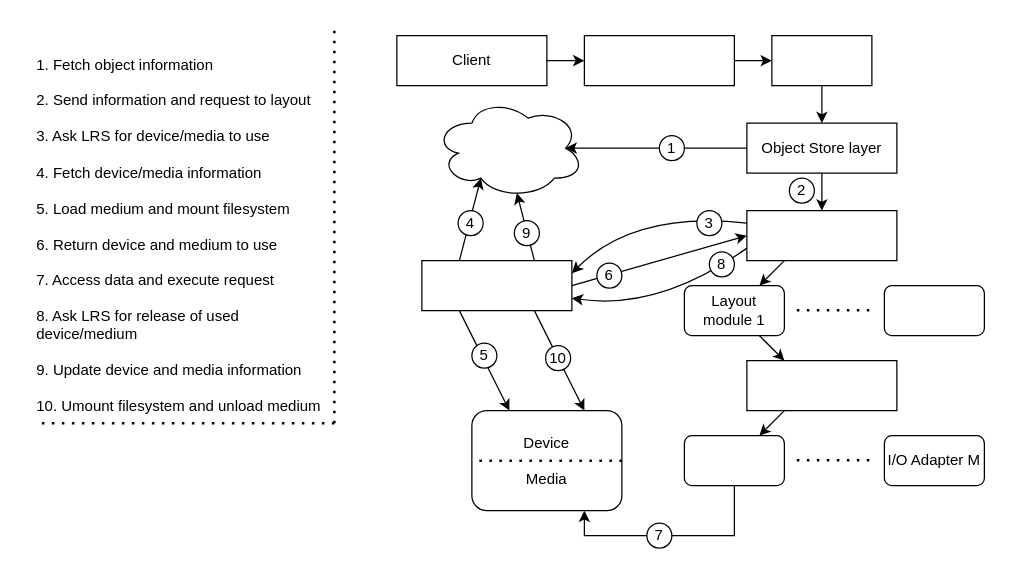
The diagram is 1018 pixels wide and 581 high, and some of its shapes have lost their labels. The shapes that lost their labels are listed below. From the top down, each one's centre as x and y in pixels, then its label:
At (x=658, y=60): "Front-end (Copytool, S3, ...)".
At (x=821, y=60): "API".
At (x=508, y=147): "Distributed State Service (DSS)".
At (x=821, y=235): "Layout".
At (x=496, y=285): "Local Resource Scheduler (LRS)".
At (x=933, y=310): "Layout module N".
At (x=821, y=385): "I/O Adapters".
At (x=733, y=460): "I/O Adapter 1".
